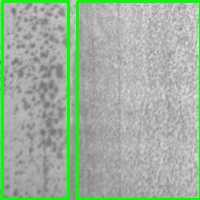pitted_surface: (77, 1, 200, 199), (2, 1, 68, 199)
